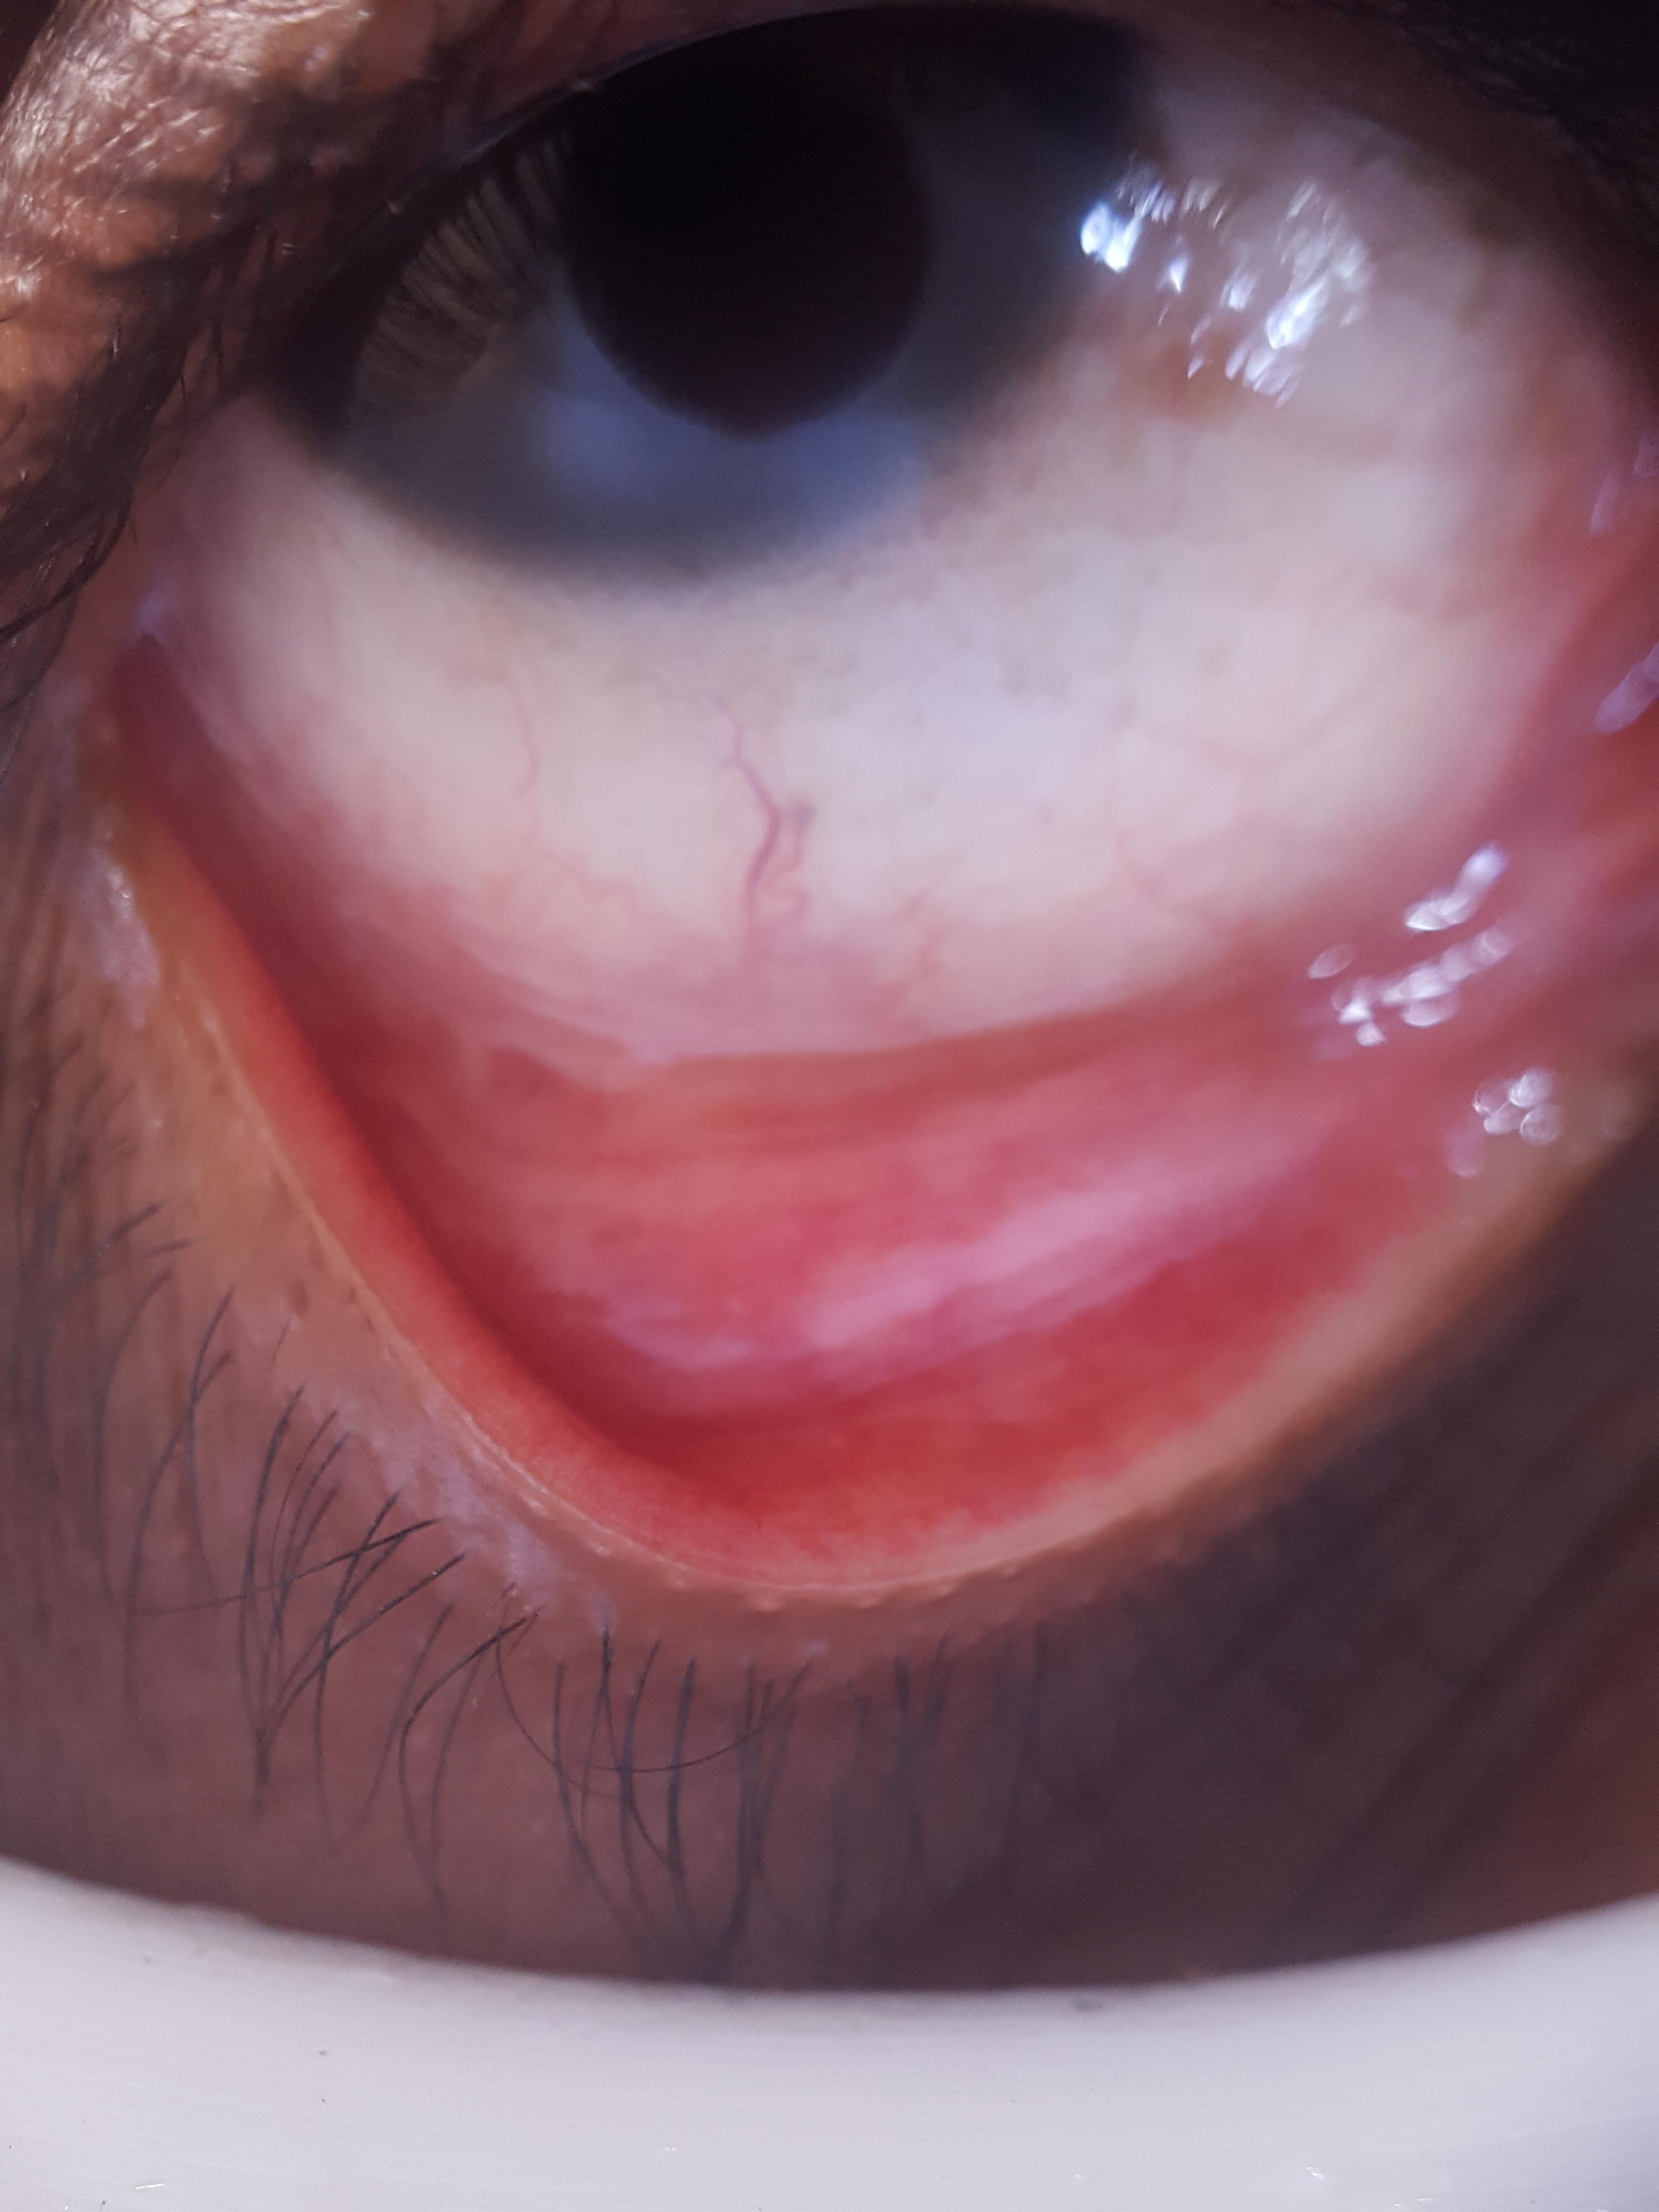forniceal: (169, 674, 1387, 1421)
forniceal_palpebral: (105, 650, 1457, 1529)
palpebral: (108, 658, 1448, 1521)
